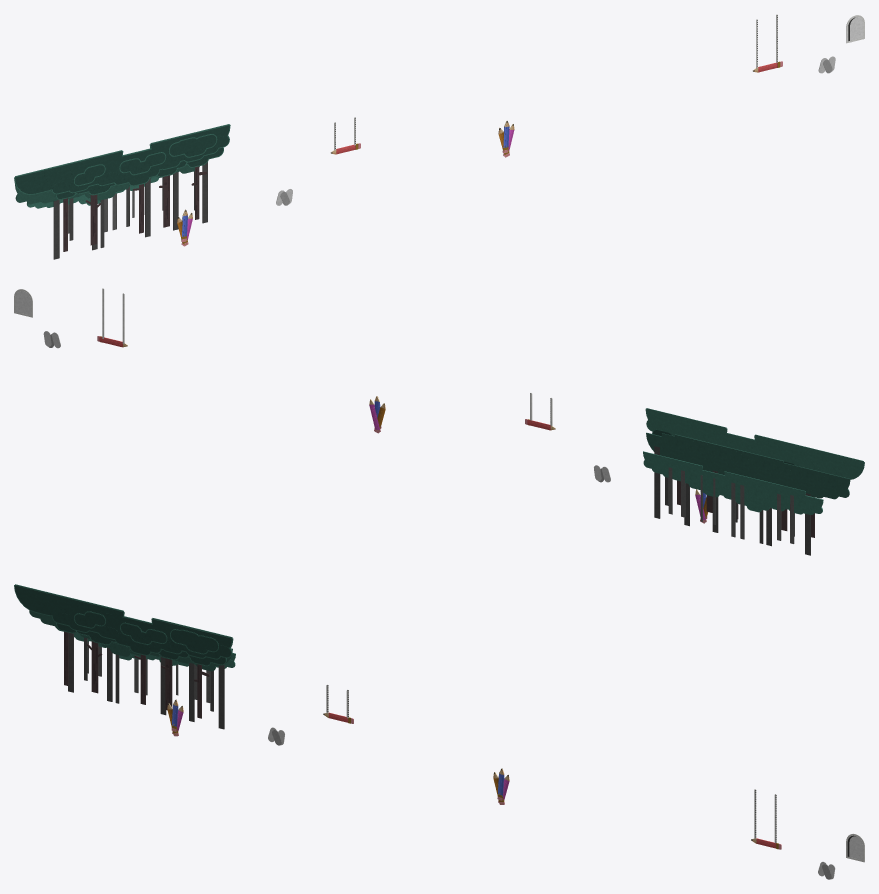
File: decor_level1.glb
The picture shows the model from 3 angles, top to bottom: view 1: azimuth 30°, elevation 25°; view 2: azimuth 150°, elevation 25°; view 3: azimuth 330°, elevation 25°; orthographic projection.
Visible parts, largest first — view 1: L1_laag8_kruinen_06.003, L1_laag9_kruinen_10.003; view 2: L1_laag9_kruinen_10.003, L1_laag8_kruinen_06.003, L1_laag10_kruinen_09.003; view 3: L1_laag8_kruinen_06.003, L1_laag9_kruinen_10.003.
Part boxes in pixels (x1,y1,x2,y2): L1_laag8_kruinen_06.003: (14,124,230,199); L1_laag9_kruinen_10.003: (15,165,199,204); L1_laag9_kruinen_10.003: (646,432,850,499); L1_laag8_kruinen_06.003: (645,408,864,479); L1_laag10_kruinen_09.003: (643,451,823,514); L1_laag8_kruinen_06.003: (14,584,233,666); L1_laag9_kruinen_10.003: (29,610,232,671).
Size of the model in its own units: 101 by 12.05 by 4.33.
32 materials, 32 textured.
